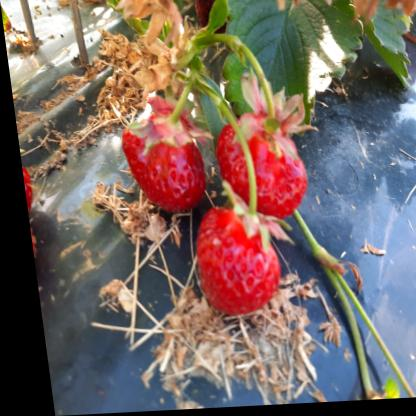ripe: (183, 220, 276, 316), (211, 125, 304, 213), (116, 123, 201, 214)
